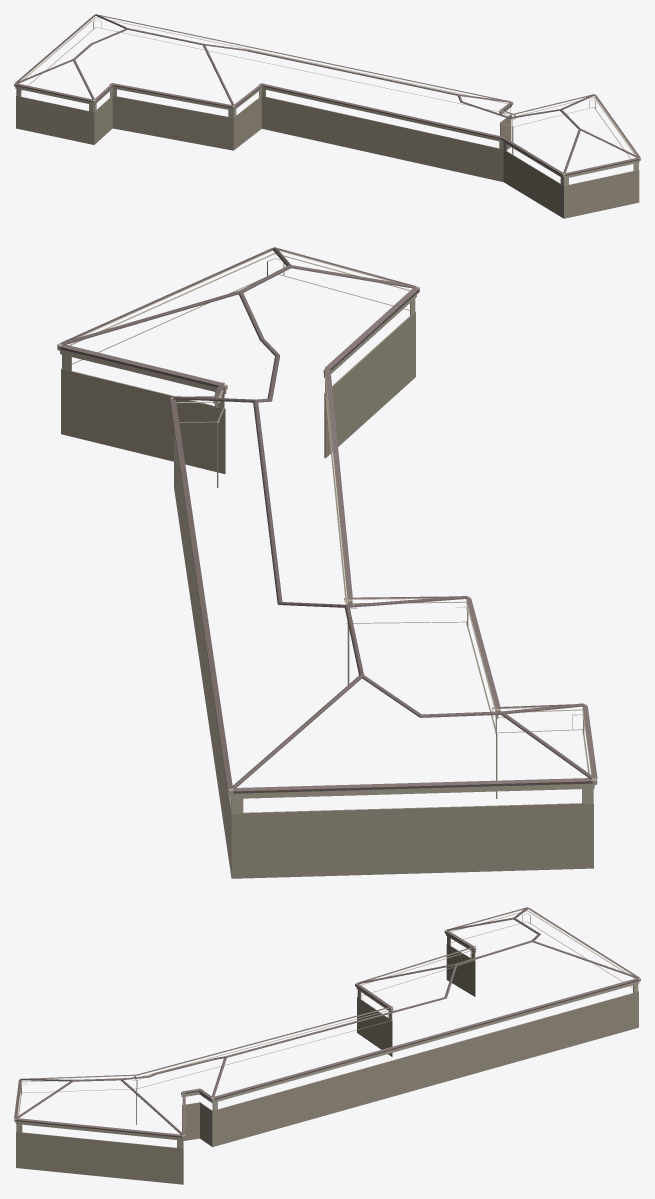
3 renders of one model, top to bottom at view 1: azimuth 30°, elevation 25°; view 2: azimuth 150°, elevation 25°; view 3: azimuth 270°, elevation 25°, orthographic. The views are drawn at different scales.
Visible parts, largest first — view 1: detail; view 2: detail; view 3: detail.
Boxes of the visible parts, x1,y1,x2,y2 form: detail: (14,14,640,218); detail: (57,247,597,878); detail: (14,907,640,1184).
Size of the model in its own units: 58.04 by 9.26 by 67.14.
